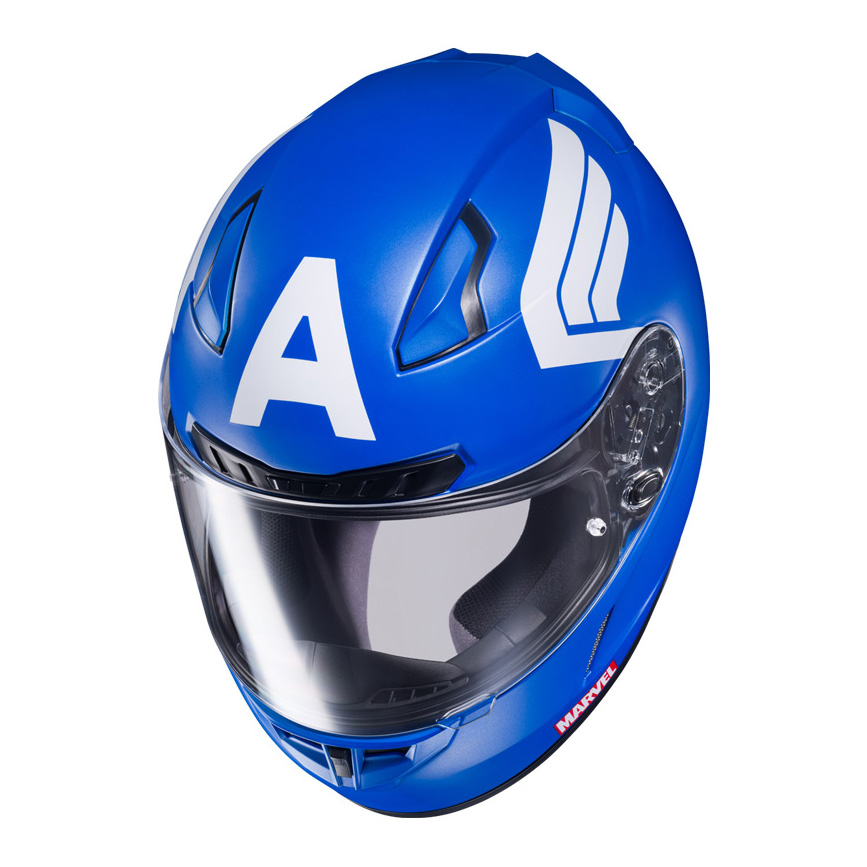helmet: (157, 83, 725, 716)
